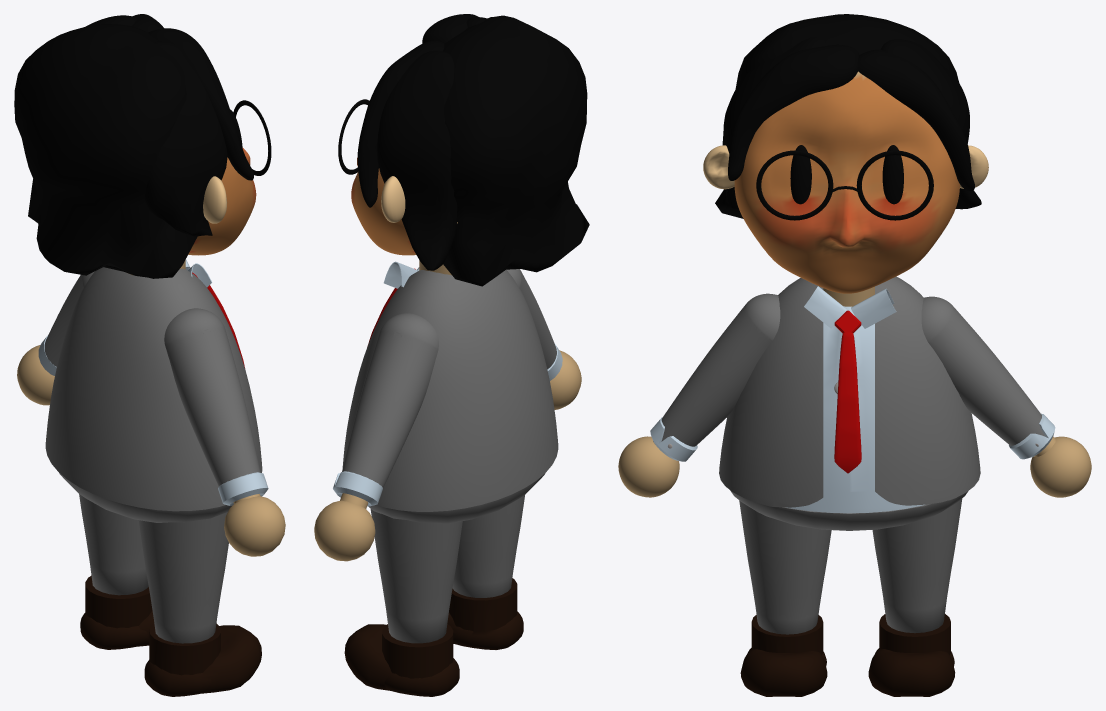
Rendered from NPCstill.fbx.
3 views of the same model, side by side, from view 1: azimuth 30°, elevation 25°; view 2: azimuth 150°, elevation 25°; view 3: azimuth 270°, elevation 25° (orthographic).
Parts seen in each view (by area): view 1: polySurface258, polySurface240, polySurface253, polySurface248, polySurface252, polySurface274, polySurface264, pSphere2815, polySurface260, polySurface241, polySurface271, polySurface263 (+3 smaller); view 2: polySurface258, polySurface240, polySurface260, polySurface268, polySurface264, polySurface248, polySurface274, pSphere2816, polySurface253, polySurface271, polySurface241, polySurface269 (+5 smaller); view 3: polySurface240, polySurface241, polySurface260, polySurface253, polySurface248, polySurface264, polySurface242, pSphere2815, polySurface258, polySurface274, pSphere2816, polySurface269 (+12 smaller).
Boxes of the visible parts, <box> form: polySurface258: <box>14,24,197,278</box>; polySurface240: <box>45,267,262,511</box>; polySurface253: <box>164,308,285,556</box>; polySurface248: <box>138,512,228,643</box>; polySurface252: <box>144,41,227,236</box>; polySurface274: <box>144,623,261,696</box>; polySurface264: <box>79,494,148,595</box>; pSphere2815: <box>148,28,253,180</box>; polySurface260: <box>17,271,94,405</box>; polySurface241: <box>188,147,256,255</box>; polySurface271: <box>85,575,152,628</box>; polySurface263: <box>59,473,231,522</box>; polySurface258: <box>443,15,589,286</box>; polySurface240: <box>342,270,558,511</box>; polySurface260: <box>314,313,438,561</box>; polySurface268: <box>377,50,457,270</box>; polySurface264: <box>370,509,462,643</box>; polySurface248: <box>452,495,524,597</box>; polySurface274: <box>447,578,523,649</box>; pSphere2816: <box>357,40,444,207</box>; polySurface253: <box>506,269,581,409</box>; polySurface271: <box>382,624,453,694</box>; polySurface241: <box>351,157,457,255</box>; polySurface269: <box>344,624,391,690</box>; polySurface240: <box>719,276,980,507</box>; polySurface241: <box>734,71,959,293</box>; polySurface260: <box>921,296,1091,497</box>; polySurface253: <box>618,293,780,497</box>; polySurface248: <box>739,500,831,634</box>; polySurface264: <box>872,498,962,633</box>; polySurface242: <box>786,306,924,513</box>; pSphere2815: <box>728,44,859,180</box>; polySurface258: <box>715,14,959,218</box>; polySurface274: <box>740,615,827,696</box>; pSphere2816: <box>858,49,974,190</box>; polySurface269: <box>868,649,955,696</box>.
Size of the model in its own units: 1.84 by 5.38 by 3.62.
